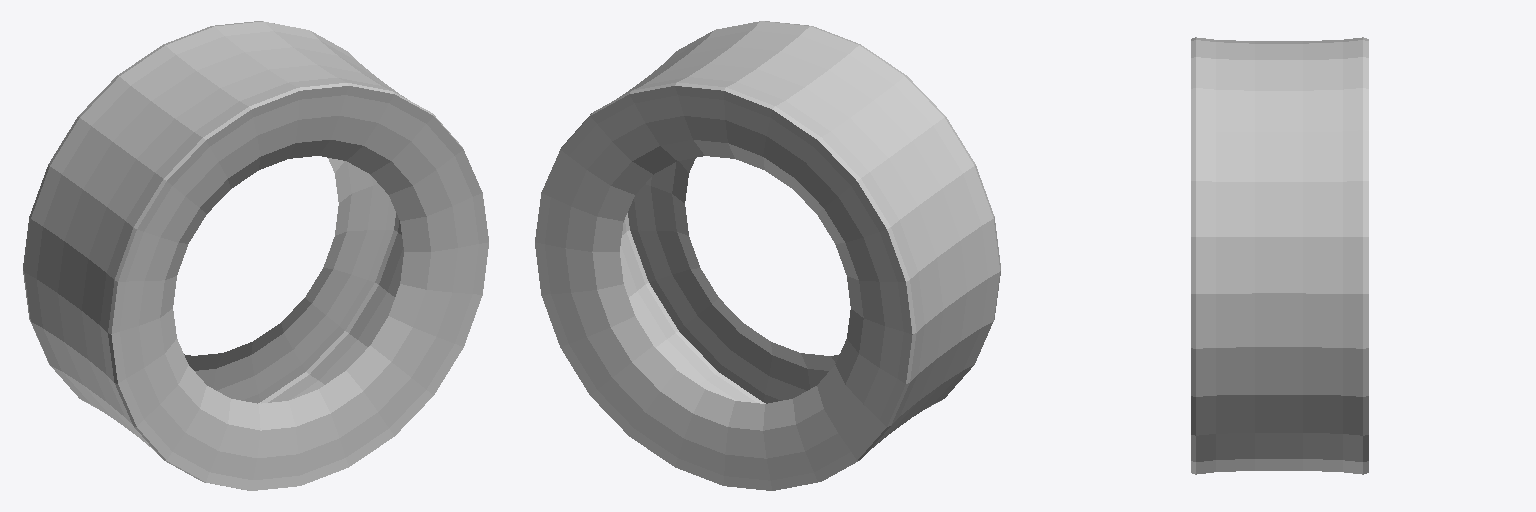
File: Tire.obj
3 renders of one model, left to right at view 1: azimuth 30°, elevation 25°; view 2: azimuth 150°, elevation 25°; view 3: azimuth 270°, elevation 25°, orthographic.
Parts seen in each view (by area): view 1: loftedSurface1; view 2: loftedSurface1; view 3: loftedSurface1.
Part boxes in pixels (bbox=[...]): loftedSurface1: bbox=[23, 21, 488, 490]; loftedSurface1: bbox=[535, 21, 1000, 490]; loftedSurface1: bbox=[1191, 37, 1368, 474].
Size of the model in its own units: 6.59 by 6.59 by 2.66.